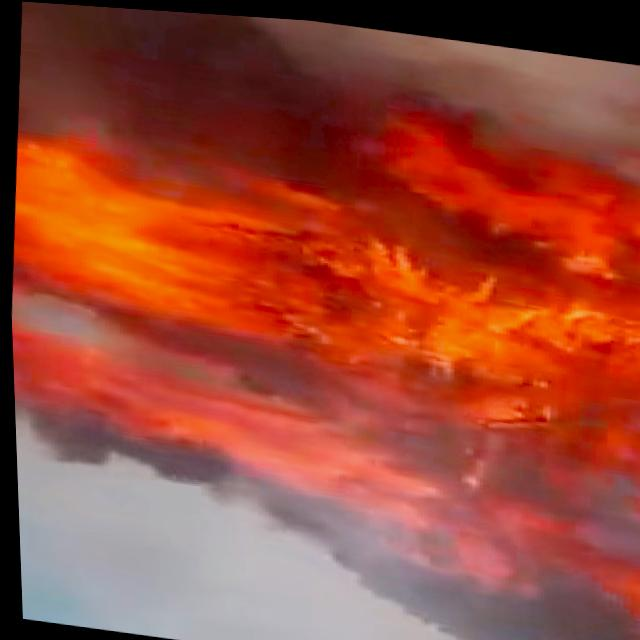fire: (3, 87, 640, 591), (3, 98, 640, 380)
smoke: (16, 548, 173, 637)
